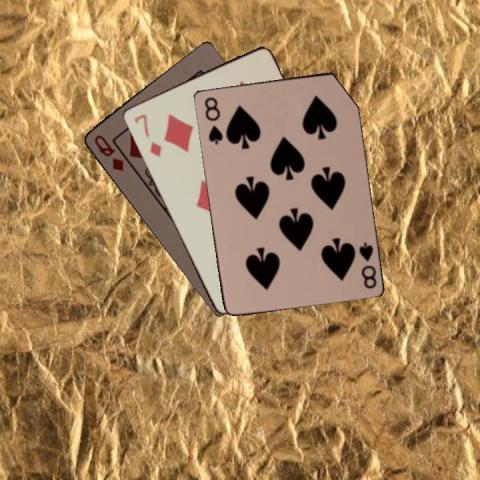7d: (131, 110, 162, 158)
8s: (201, 94, 224, 146), (356, 239, 378, 290)
Qd: (90, 131, 125, 173)
